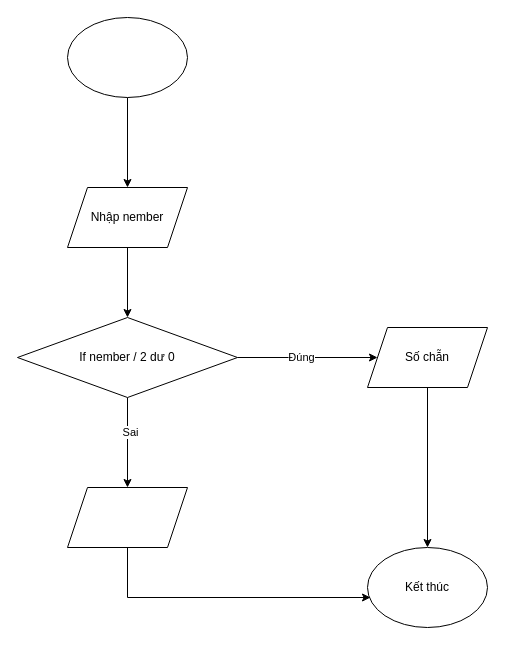
Image size: 505x645. Some labels were removed from this diagram. The centre of each missing label's shape, as x and y in pixels:
"Bắt đầu" belongs at [127,57].
"Số lẻ" belongs at [127,517].
